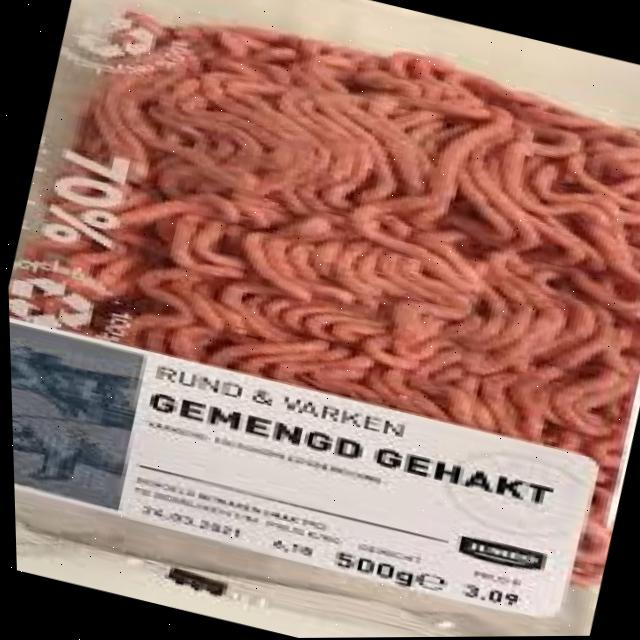Wet: (118, 0, 640, 467)
